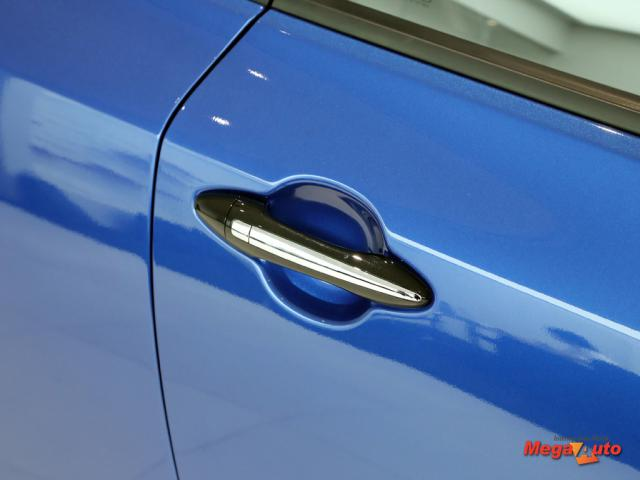Door-handle: (198, 186, 435, 311)
